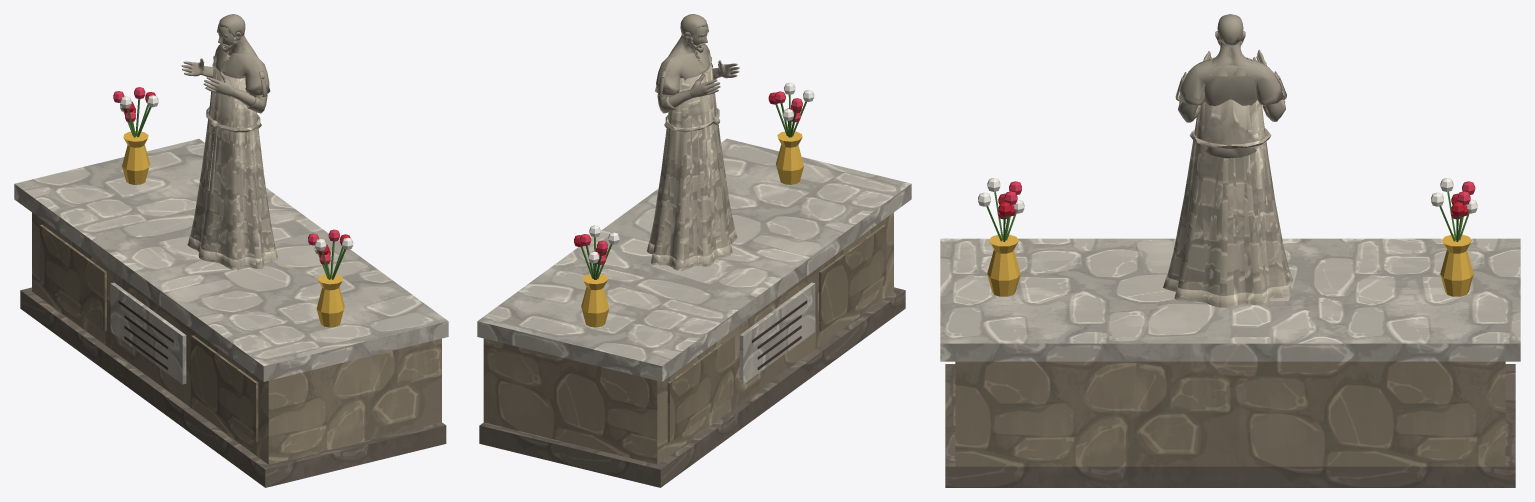
Rendered from cathedral_crypt_monument.gltf.
The picture shows the model from 3 angles, left to right: view 1: azimuth 30°, elevation 25°; view 2: azimuth 150°, elevation 25°; view 3: azimuth 270°, elevation 25°; orthographic projection. The views are drawn at different scales.
Visible parts, largest first — view 1: cathedral_crypt_monument; view 2: cathedral_crypt_monument; view 3: cathedral_crypt_monument.
Boxes of the visible parts, bbox=[...] form: cathedral_crypt_monument: bbox=[14, 14, 448, 487]; cathedral_crypt_monument: bbox=[477, 14, 911, 487]; cathedral_crypt_monument: bbox=[940, 14, 1520, 487].
Bounding box in the file's own units: 1.48 × 2.76 × 3.46.
Materials: 3 (1 with a texture image).
